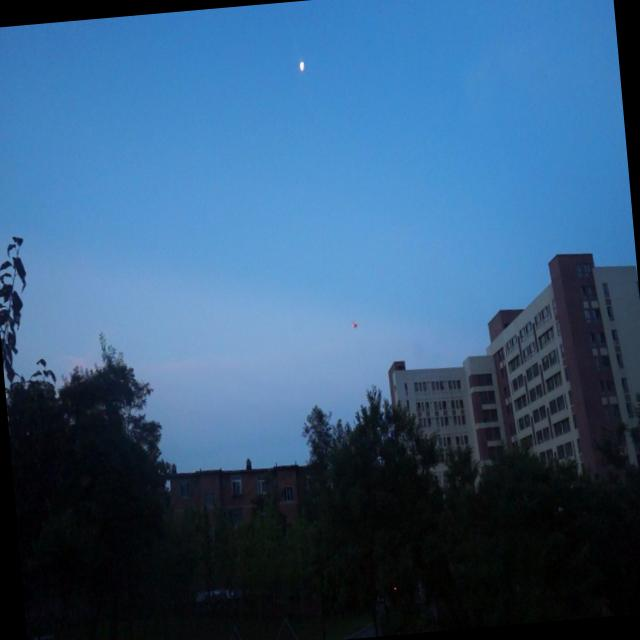drone: (352, 318, 359, 332)
